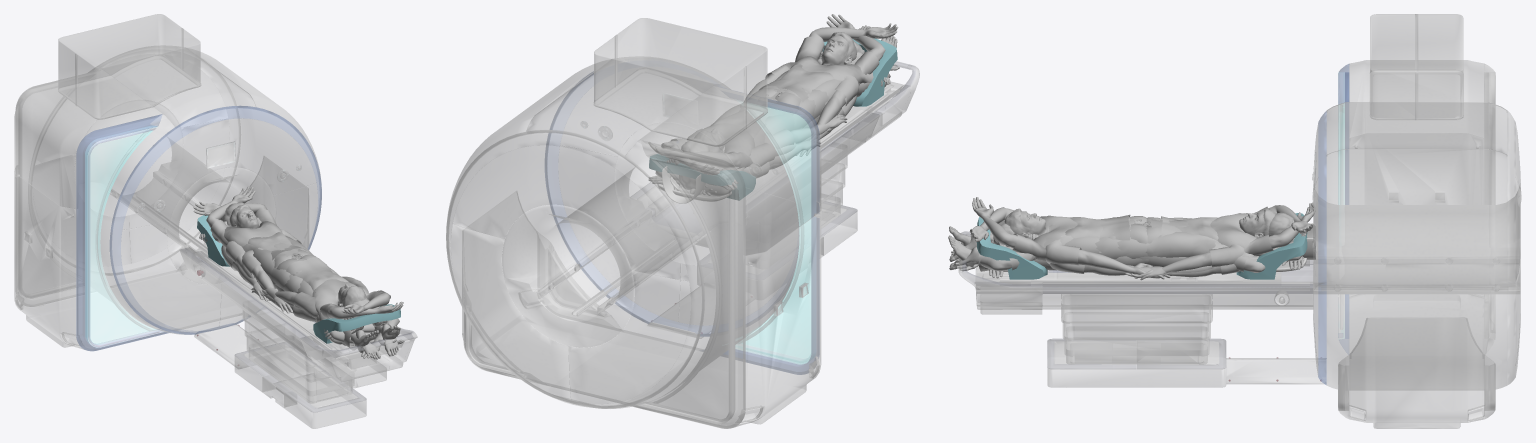
The model's file is Dave.glb.
3 views of the same model, side by side, from view 1: azimuth 30°, elevation 25°; view 2: azimuth 150°, elevation 25°; view 3: azimuth 270°, elevation 25° (orthographic). The views are drawn at different scales.
Visible parts, largest first — view 1: SM_MRI_base, Table, body_geo1, SM_MRI_bed_inOut.001, body_geo1.001, SM_head_arm_rest3, scrubShirt_geo1, body_geo8, scrubShirt_geo9, body_geo3, scrubShirt_geo6, scrubShirt_geo5 (+5 smaller); view 2: SM_MRI_base, Table, body_geo1.001, body_geo1, scrubShirt_geo1.001, SM_head_arm_rest2, SM_head_arm_rest3, scrubShirt_geo1, scrubShirt_geo9, scrubShirt_geo5, scrubShirt_geo6, scrubShirt_geo10 (+8 smaller); view 3: SM_MRI_base, Table, SM_MRI_bed_inOut.001, body_geo1.001, body_geo1, SM_head_arm_rest3, SM_head_arm_rest2, scrubShirt_geo1.001, scrubShirt_geo1, scrubShirt_geo6, scrubShirt_geo9, scrubPants_geo1.001 (+7 smaller).
Boxes of the visible parts, x1,y1,x2,y2 form: SM_MRI_base: (14, 14, 321, 351); Table: (179, 247, 417, 428); body_geo1: (193, 186, 387, 333); SM_MRI_bed_inOut.001: (204, 256, 383, 359); body_geo1.001: (326, 284, 403, 319); SM_head_arm_rest3: (313, 304, 400, 343); scrubShirt_geo1: (210, 209, 301, 263); body_geo8: (251, 265, 398, 359); scrubShirt_geo9: (205, 221, 298, 249); body_geo3: (256, 279, 400, 352); scrubShirt_geo6: (289, 257, 368, 314); scrubShirt_geo5: (312, 279, 377, 333); SM_MRI_base: (446, 18, 821, 428); Table: (630, 61, 919, 338); body_geo1.001: (667, 14, 898, 163); body_geo1: (648, 128, 741, 174); scrubShirt_geo1.001: (774, 36, 879, 92); SM_head_arm_rest2: (649, 154, 755, 200); SM_head_arm_rest3: (822, 38, 897, 106); scrubShirt_geo1: (671, 97, 787, 168); scrubShirt_geo9: (687, 123, 754, 170); scrubShirt_geo5: (779, 59, 883, 89); scrubShirt_geo6: (759, 62, 858, 103); scrubShirt_geo10: (687, 100, 783, 166); SM_MRI_base: (1312, 14, 1521, 428); Table: (958, 231, 1325, 387); SM_MRI_bed_inOut.001: (1000, 270, 1281, 285); body_geo1.001: (969, 197, 1306, 260); body_geo1: (990, 202, 1315, 248); SM_head_arm_rest3: (976, 217, 1047, 279); SM_head_arm_rest2: (1236, 213, 1307, 279); scrubShirt_geo1.001: (1010, 209, 1134, 261); scrubShirt_geo1: (1151, 206, 1273, 255); scrubShirt_geo6: (1045, 215, 1130, 265); scrubShirt_geo9: (1210, 213, 1284, 262); scrubPants_geo1.001: (1145, 217, 1204, 256).
Bounding box in the file's own units: 1.94 × 2.02 × 3.44.
Materials: 6 (3 with a texture image).
